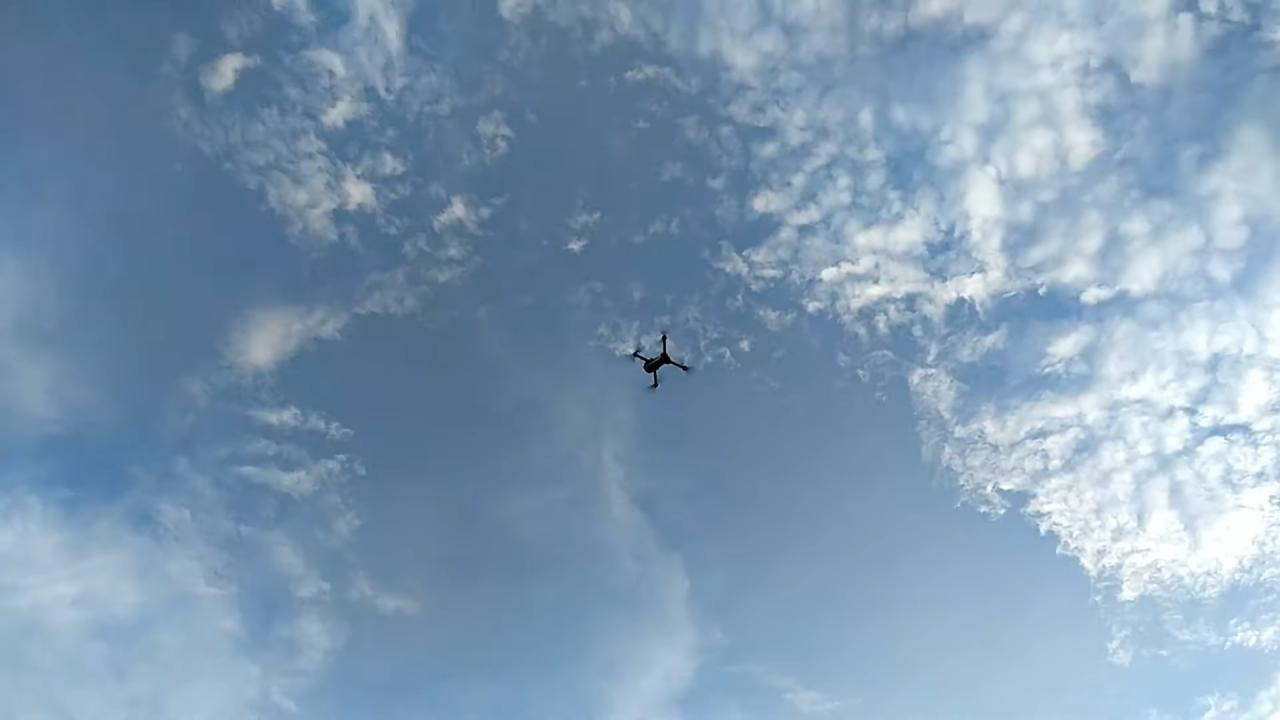Drone: (623, 318, 700, 404)
